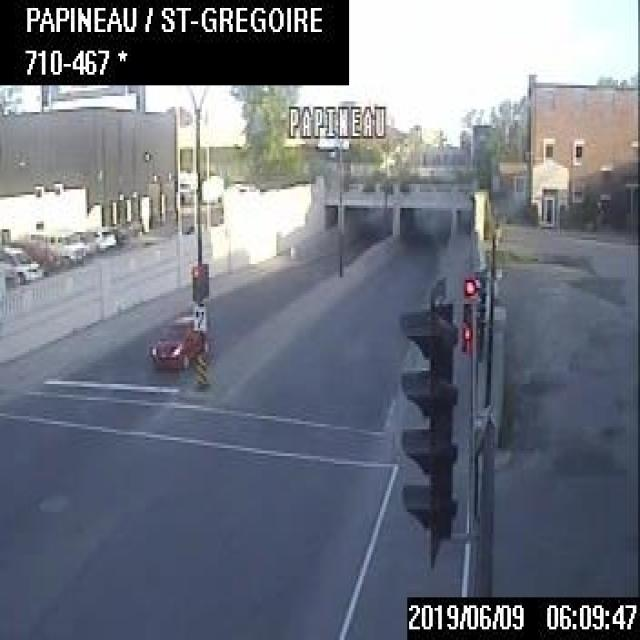vehicle: (148, 309, 203, 366), (0, 241, 45, 281), (38, 227, 83, 264), (82, 223, 116, 255)
